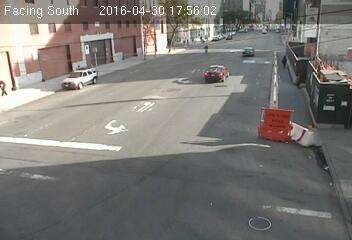neg: (242, 90, 266, 122), (200, 43, 210, 56), (195, 134, 202, 143)
pos: (278, 53, 290, 68)
